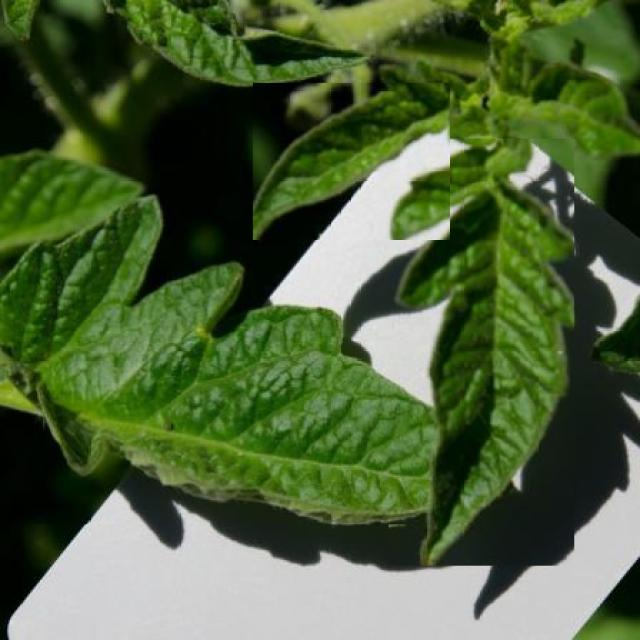Healthy: (0, 193, 434, 525), (389, 138, 575, 566), (253, 83, 450, 240)
